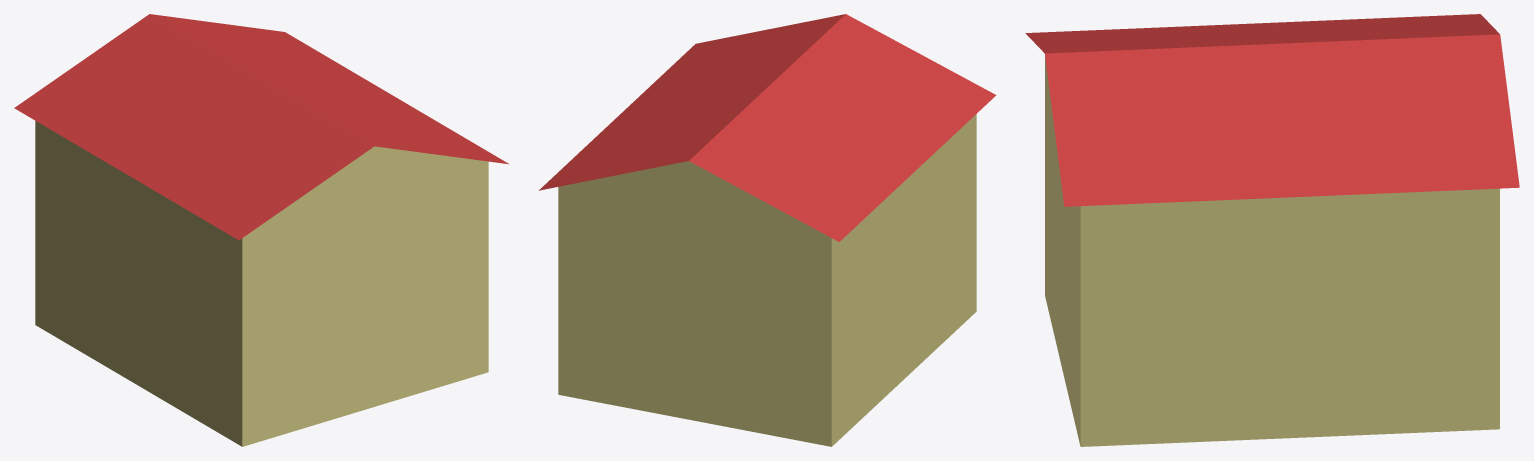
3 renders of one model, left to right at view 1: azimuth 30°, elevation 25°; view 2: azimuth 150°, elevation 25°; view 3: azimuth 270°, elevation 25°, orthographic. The views are drawn at different scales.
Size of the model in its own units: 12.13 by 13.66 by 9.71.
